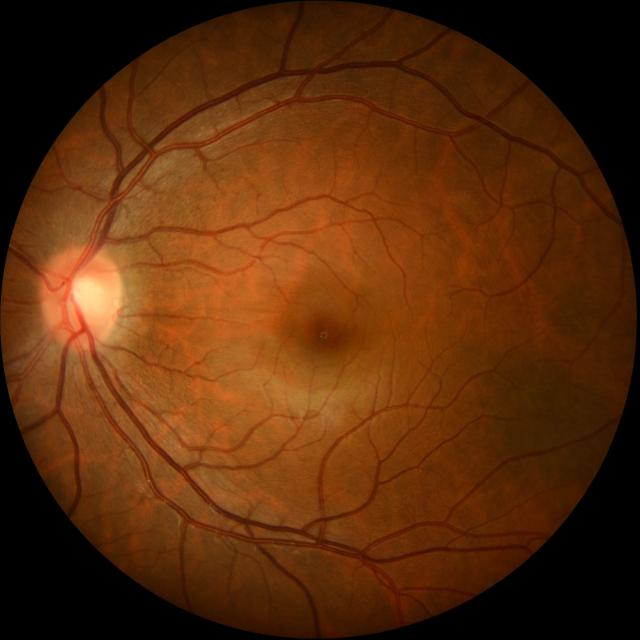OC: (63, 273, 104, 322)
OD: (39, 244, 121, 348)
